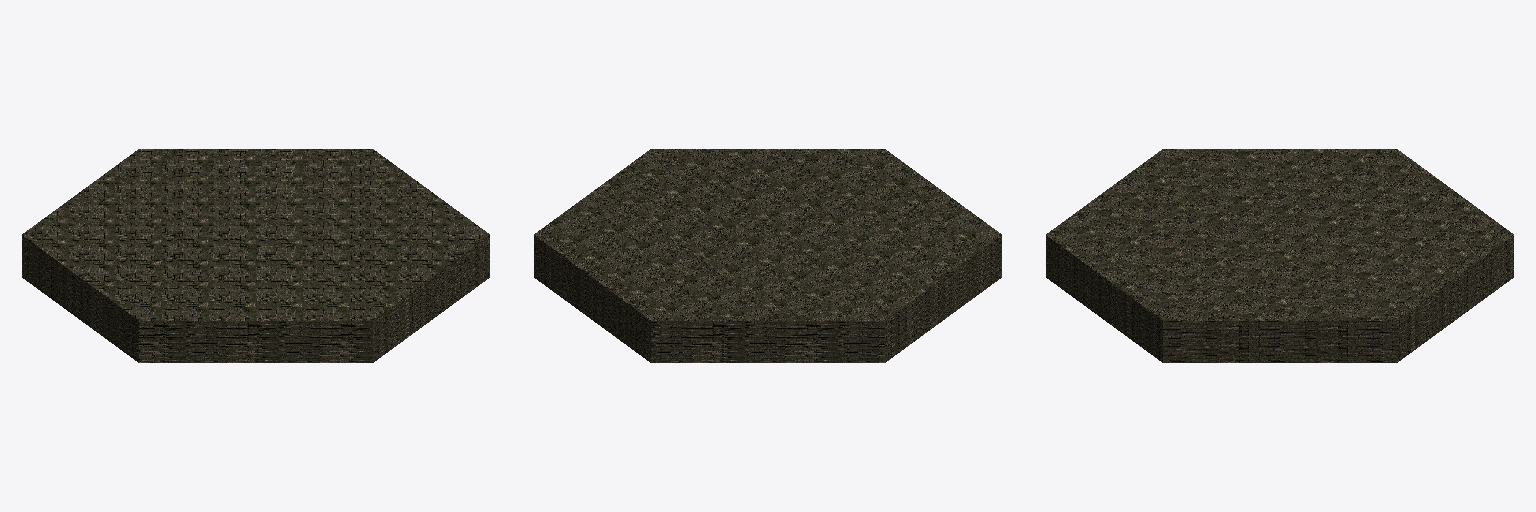
3 views of the same model, side by side, from view 1: azimuth 30°, elevation 25°; view 2: azimuth 150°, elevation 25°; view 3: azimuth 270°, elevation 25° (orthographic).
Parts seen in each view (by area): view 1: Cylinder; view 2: Cylinder; view 3: Cylinder.
Part boxes in pixels (x1,y1,x2,y2): Cylinder: (22,149,489,362); Cylinder: (534,149,1001,362); Cylinder: (1046,149,1513,362).
Size of the model in its own units: 1.73 by 0.2 by 2.
Materials: 1 (1 with a texture image).